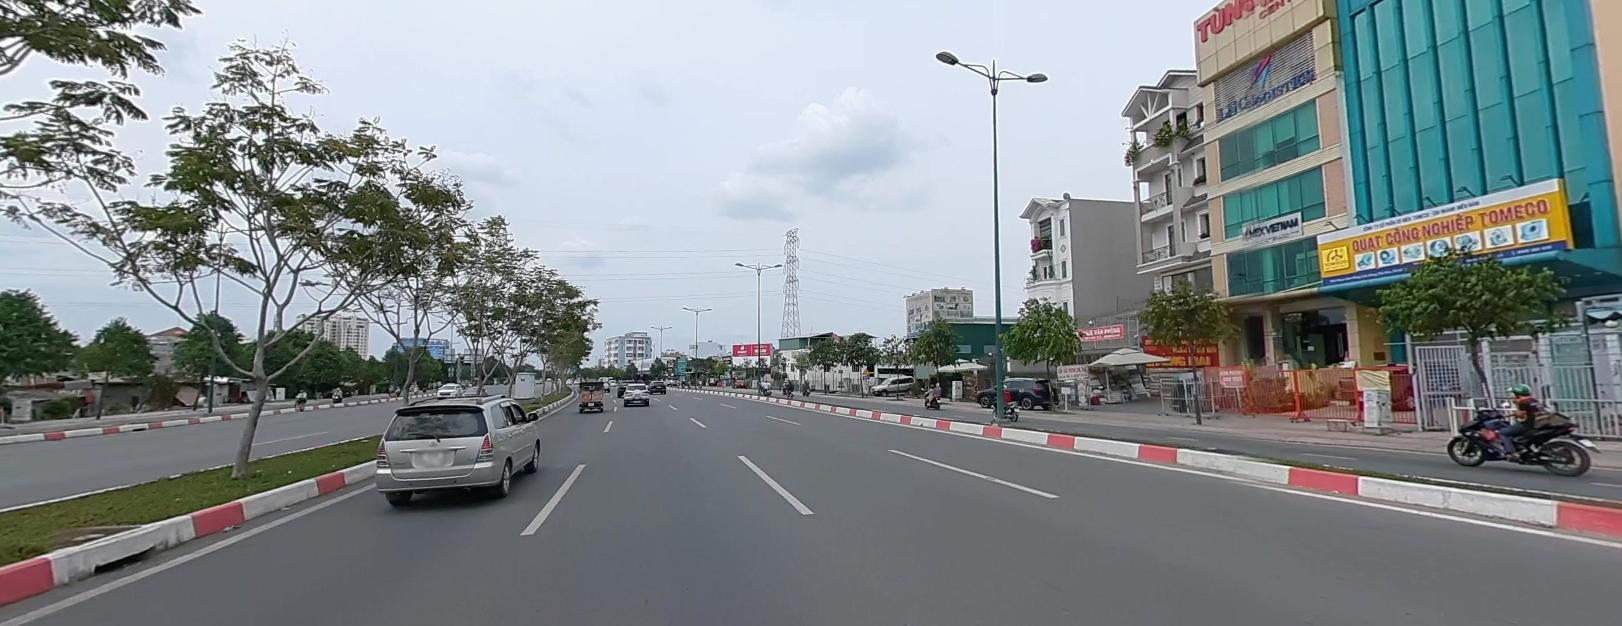Nguy hiem: (862, 367, 869, 373)
